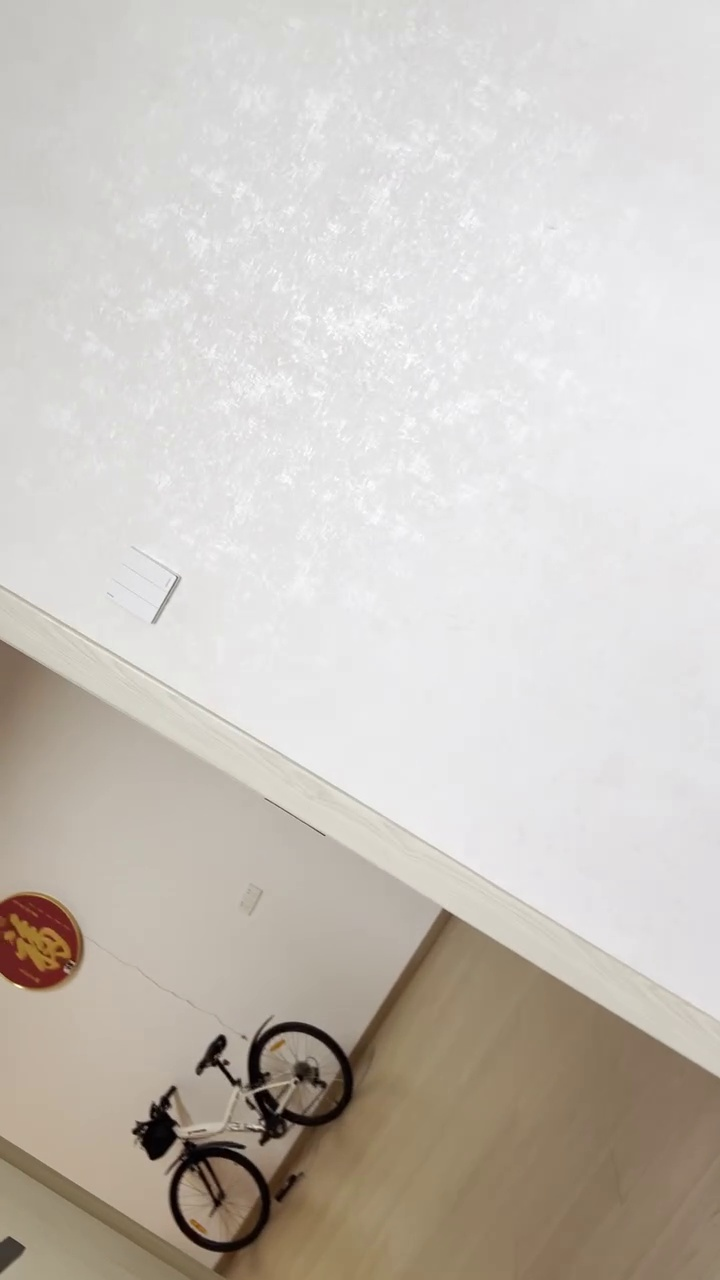button: (93, 546, 184, 624)
